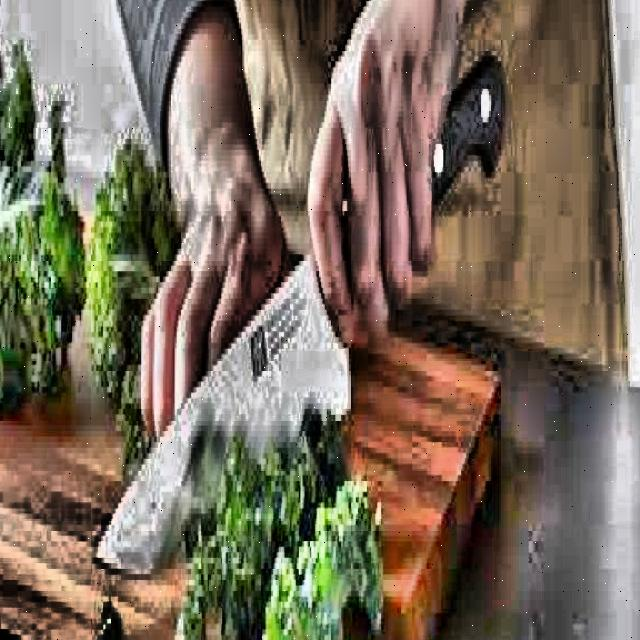knife: (90, 34, 513, 592)
